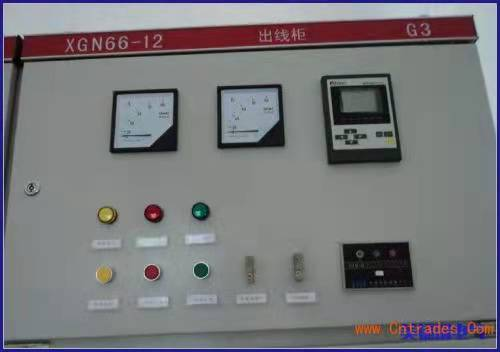pointer: (112, 92, 174, 148), (220, 88, 282, 143)
